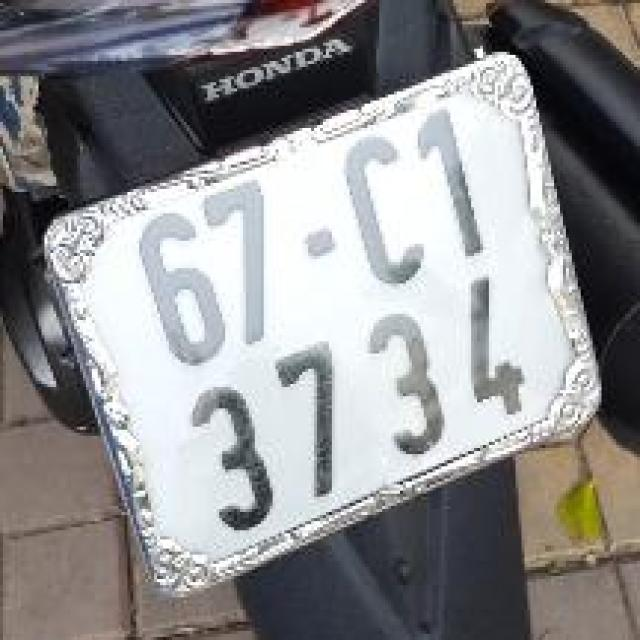1: (398, 93, 507, 267)
3: (354, 290, 469, 479), (177, 373, 286, 545)
4: (442, 255, 549, 446)
6: (126, 201, 243, 385)
7: (257, 330, 368, 516), (189, 169, 295, 360)
C: (325, 122, 441, 303)
